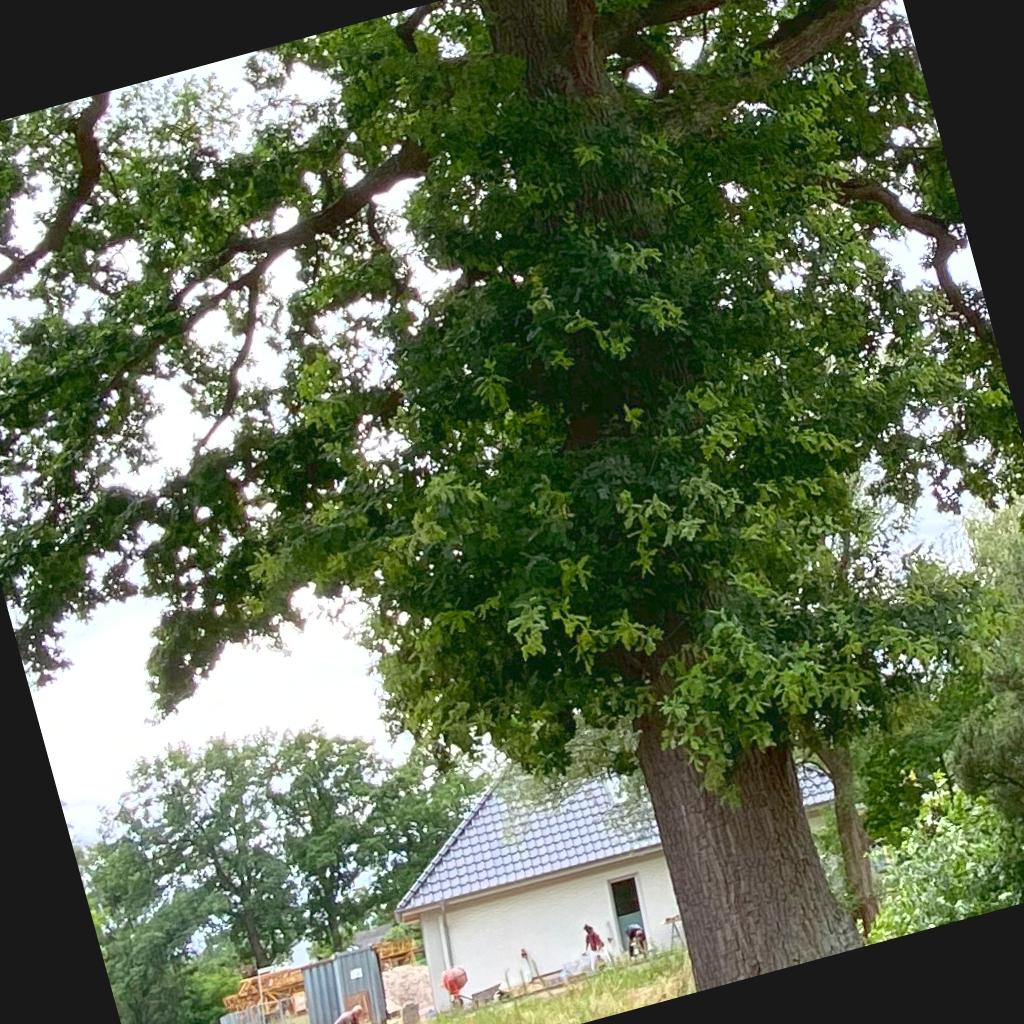tree: (1, 1, 1023, 993)
